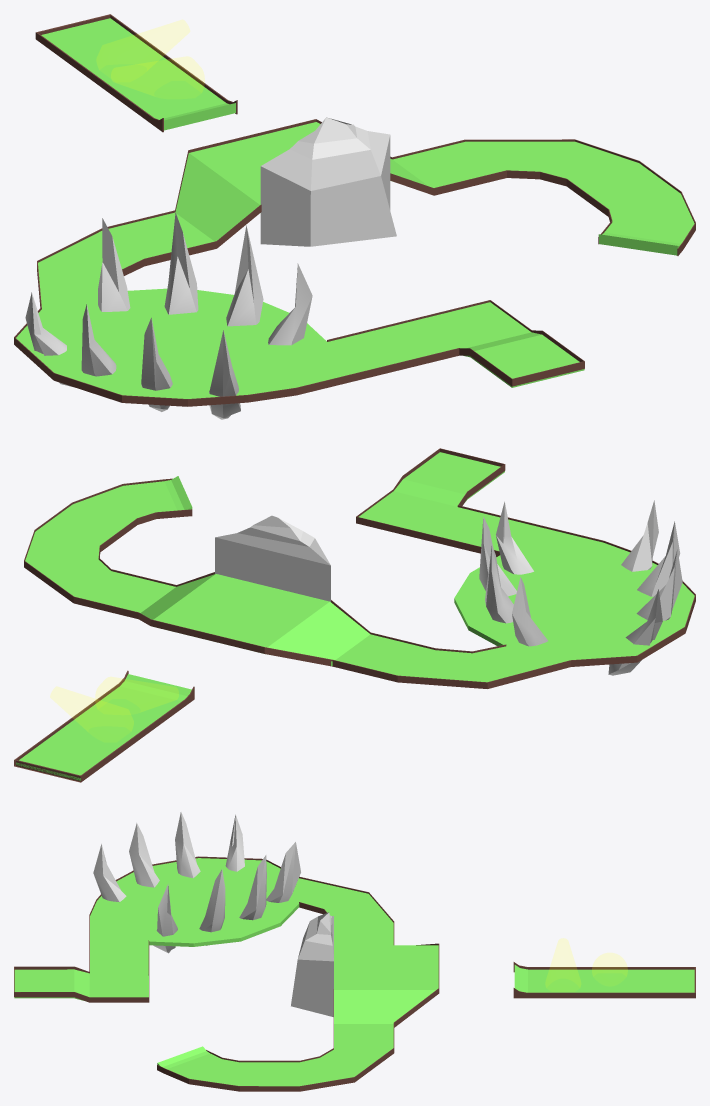
3 views of the same model, one above another, from view 1: azimuth 30°, elevation 25°; view 2: azimuth 150°, elevation 25°; view 3: azimuth 270°, elevation 25° (orthographic). The views are drawn at different scales.
Visible parts, largest first — view 1: Cube.089, Cube.092, rock.337, Cube.090, Cube.088, Cylinder.049, Cylinder.048, Cube.091; view 2: Cube.089, Cube.090, rock.337, Cube.088, Cube.092, Cube.091, Cylinder.049, Cylinder.048; view 3: Cube.089, rock.337, Cube.088, Cube.090, Cube.092, Cube.091, Cylinder.048, Cylinder.049.
Part boxes in pixels (<box>): Cube.089: <box>16,122,694,398</box>; Cube.092: <box>260,117,396,246</box>; rock.337: <box>25,213,312,419</box>; Cube.090: <box>14,119,695,406</box>; Cube.088: <box>41,18,235,130</box>; Cylinder.049: <box>97,20,189,69</box>; Cylinder.048: <box>111,57,204,95</box>; Cube.091: <box>35,14,237,132</box>; Cube.089: <box>25,452,694,682</box>; Cube.090: <box>24,448,695,688</box>; rock.337: <box>479,500,682,675</box>; Cube.088: <box>16,674,191,780</box>; Cube.092: <box>215,515,330,601</box>; Cube.091: <box>14,670,194,782</box>; Cylinder.049: <box>50,687,133,730</box>; Cylinder.048: <box>96,677,178,711</box>; Cube.089: <box>14,858,438,1086</box>; rock.337: <box>93,812,300,953</box>; Cube.088: <box>514,965,694,992</box>; Cube.090: <box>14,856,439,1091</box>; Cube.092: <box>291,912,333,1016</box>; Cube.091: <box>513,962,695,998</box>; Cylinder.048: <box>546,939,580,986</box>; Cylinder.049: <box>592,953,627,975</box>.
Bounding box in the file's own units: 3628 × 786 × 4547.
